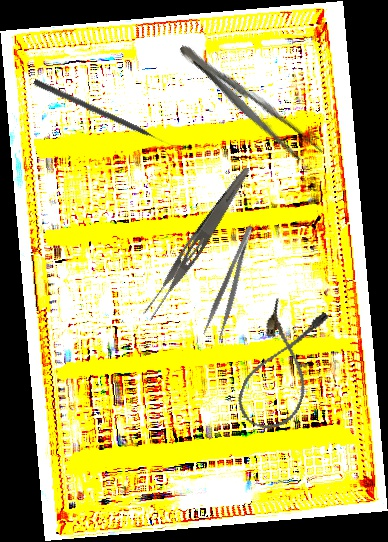Cannula: (231, 294, 333, 439)
Dressing Forceps: (171, 36, 327, 170), (139, 161, 254, 324), (201, 223, 265, 342)
Pusher: (32, 78, 173, 150)
